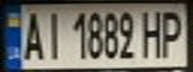1: (66, 8, 87, 60)
8: (84, 8, 106, 60), (103, 8, 121, 60)
9: (118, 7, 139, 60)
A: (18, 7, 45, 61)
H: (136, 7, 166, 58)
I: (39, 7, 66, 61)
P: (157, 7, 190, 58)
